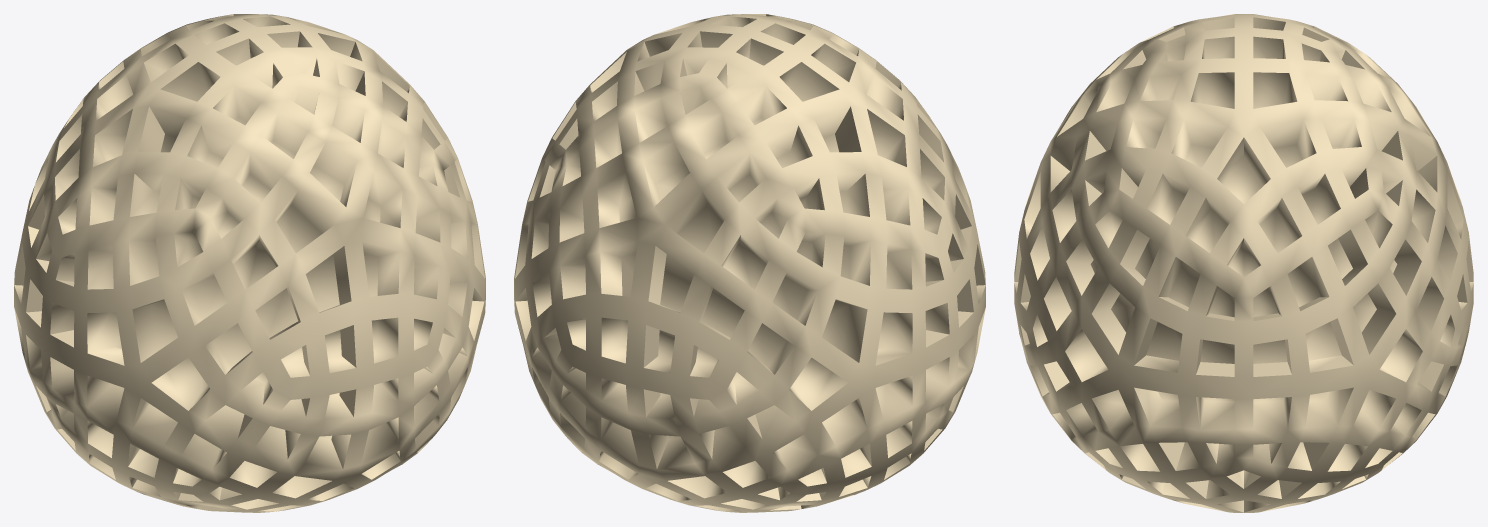
The model's file is sweethome3d-scopia-sponge-104.glb.
3 renders of one model, left to right at view 1: azimuth 30°, elevation 25°; view 2: azimuth 150°, elevation 25°; view 3: azimuth 270°, elevation 25°, orthographic.
Parts seen in each view (by area): view 1: esponja_icosahedro_1_1; view 2: esponja_icosahedro_1_1; view 3: esponja_icosahedro_1_1.
Boxes of the visible parts, <box> form: esponja_icosahedro_1_1: <box>14,14,485,512</box>; esponja_icosahedro_1_1: <box>514,14,985,512</box>; esponja_icosahedro_1_1: <box>1014,14,1473,512</box>.
Size of the model in its own units: 9.54 by 10.1 by 9.31.
